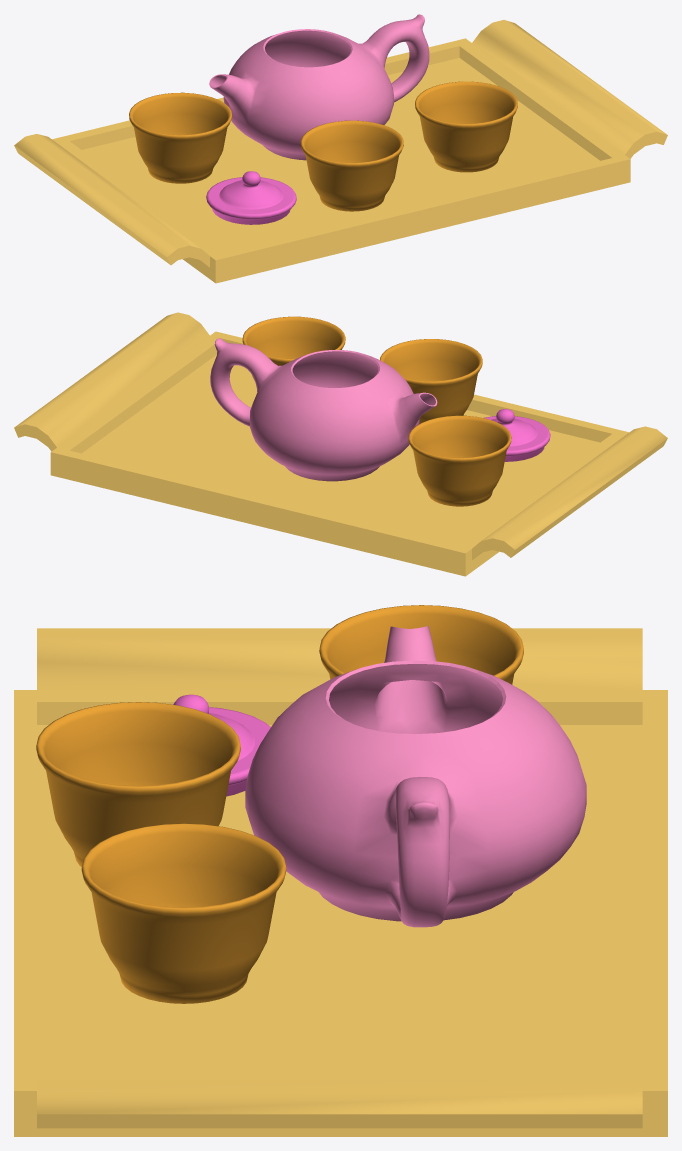
The picture shows the model from 3 angles, top to bottom: view 1: azimuth 30°, elevation 25°; view 2: azimuth 150°, elevation 25°; view 3: azimuth 270°, elevation 25°; orthographic projection. The views are drawn at different scales.
Parts seen in each view (by area): view 1: Cube, Circle, Circle.003, Circle.004, Circle.002, Circle.001; view 2: Cube, Circle, Circle.002, Circle.003, Circle.004, Circle.001; view 3: Cube, Circle, Circle.004, Circle.003, Circle.002, Circle.001.
Part boxes in pixels (box(x1,y1,x2,y2)): Cube: box(14, 20, 667, 283); Circle: box(209, 14, 429, 160); Circle.003: box(300, 120, 403, 211); Circle.004: box(415, 81, 517, 172); Circle.002: box(129, 92, 231, 183); Circle.001: box(206, 171, 296, 224); Cube: box(14, 312, 667, 576); Circle: box(210, 338, 437, 481); Circle.002: box(408, 415, 511, 506); Circle.003: box(380, 339, 482, 423); Circle.004: box(242, 316, 345, 380); Circle.001: box(484, 409, 550, 461); Cube: box(14, 628, 667, 1136); Circle: box(245, 626, 586, 927); Circle.004: box(81, 823, 286, 1003); Circle.003: box(36, 702, 240, 866); Circle.002: box(319, 605, 523, 684); Circle.001: box(173, 694, 270, 796).
Bounding box in the file's own units: 15.43 × 3.45 × 8.8.
